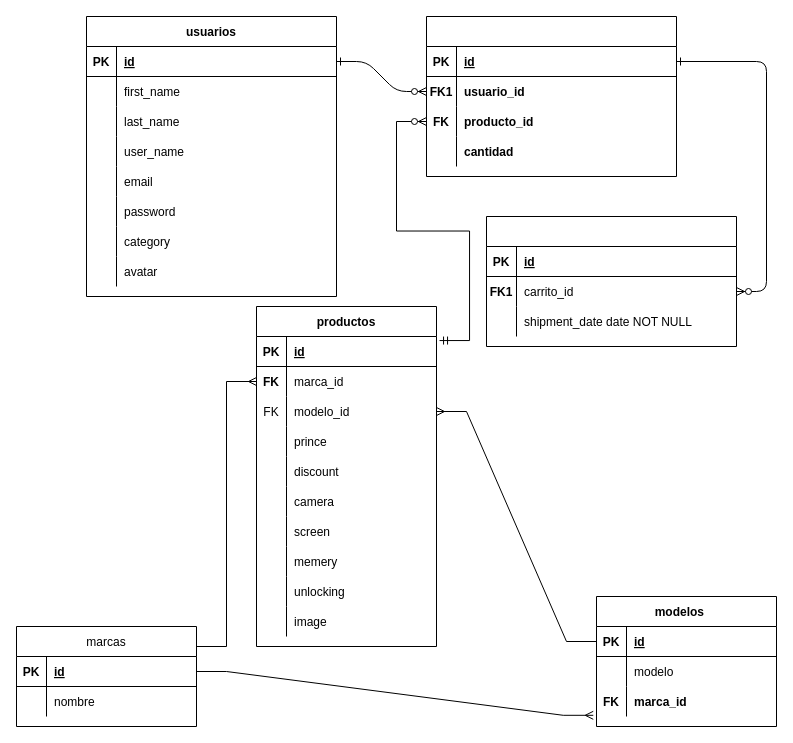
This 793x743 diagram has some shape labels left out. The box of each missing label's shape, as (x1, y1, x2, y2) in pixels:
CARRITO: (426, 16, 676, 176)
envios: (486, 216, 736, 346)
